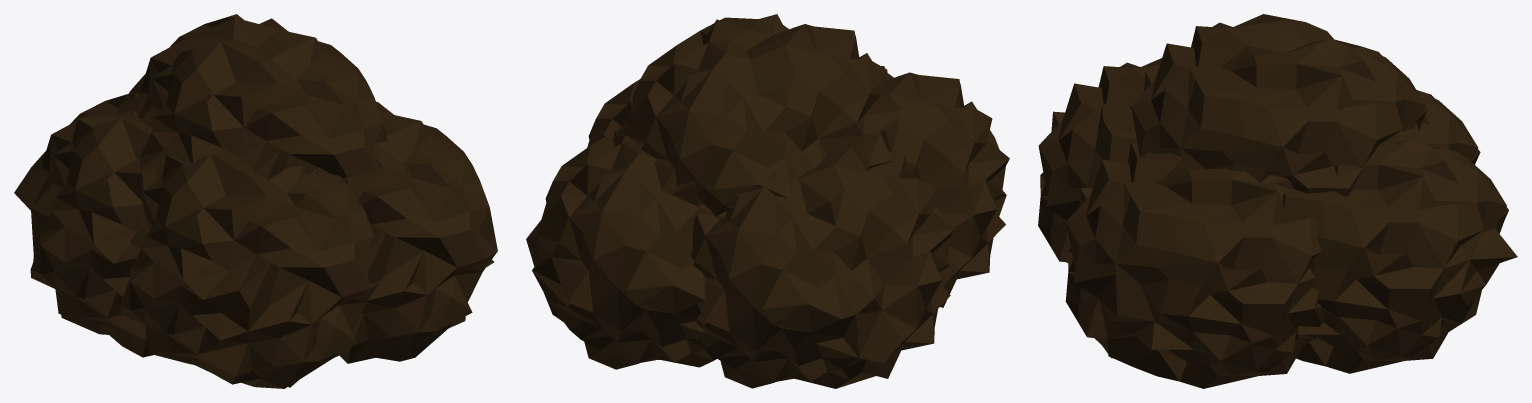
File: Leaves_tallpile_burnt.fbx
3 views of the same model, side by side, from view 1: azimuth 30°, elevation 25°; view 2: azimuth 150°, elevation 25°; view 3: azimuth 270°, elevation 25° (orthographic). The views are drawn at different scales.
Visible parts, largest first — view 1: bush.001; view 2: bush.001; view 3: bush.001.
Boxes of the visible parts, x1=… form: bush.001: x1=14, y1=14, x2=497, y2=388; bush.001: x1=526, y1=14, x2=1009, y2=388; bush.001: x1=1038, y1=14, x2=1517, y2=388.
Size of the model in its own units: 55.75 by 39.32 by 60.03.
